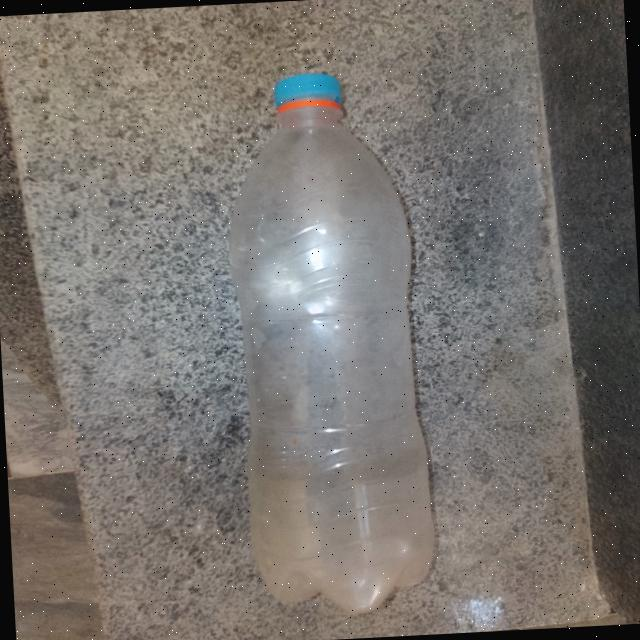bottle: (214, 51, 463, 627)
cap: (262, 70, 356, 116)
